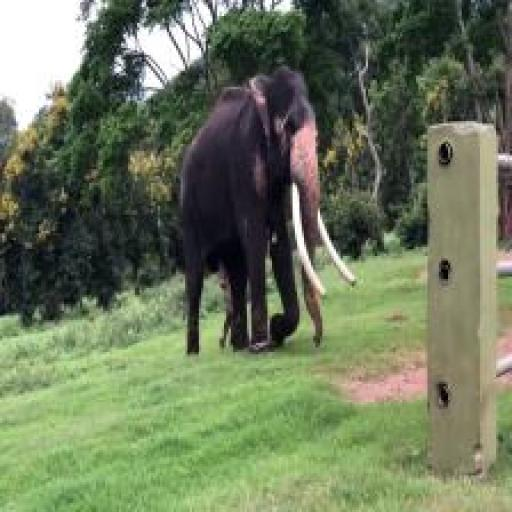Elephant: (176, 64, 360, 366)
